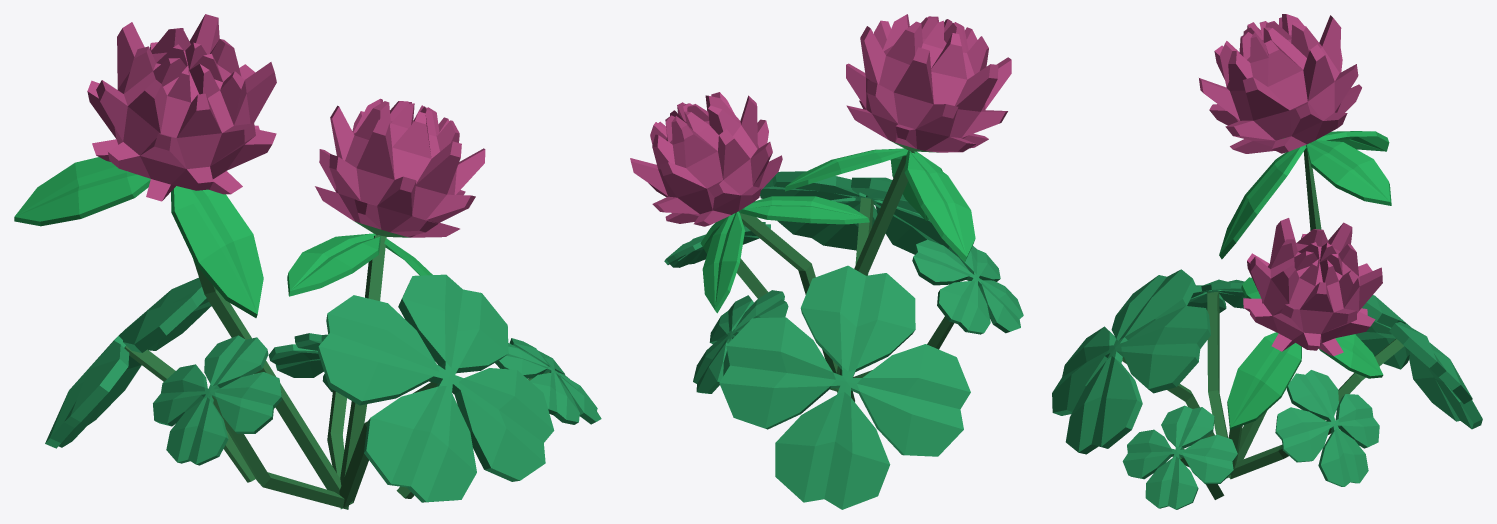
The model's file is 3D_Model_Clover_LP_v2.fbx.
The picture shows the model from 3 angles, left to right: view 1: azimuth 30°, elevation 25°; view 2: azimuth 150°, elevation 25°; view 3: azimuth 270°, elevation 25°; orthographic projection. The views are drawn at different scales.
Visible parts, largest first — view 1: clover_02; view 2: clover_02; view 3: clover_02.
Part boxes in pixels (<box>): clover_02: <box>14,14,601,509</box>; clover_02: <box>630,14,1023,509</box>; clover_02: <box>1052,14,1482,509</box>.
Bounding box in the file's own units: 204 × 205 × 199.
